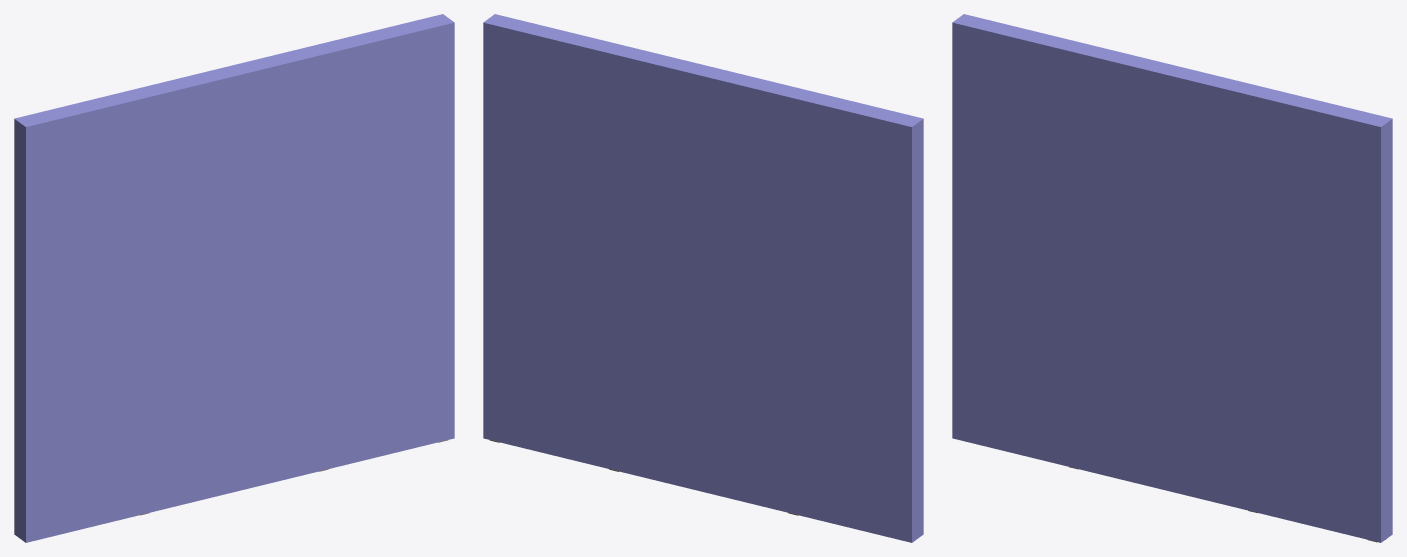
Rendered from SciFi_walkway_02_rail_long.DAE.
The picture shows the model from 3 angles, left to right: view 1: azimuth 30°, elevation 25°; view 2: azimuth 150°, elevation 25°; view 3: azimuth 330°, elevation 25°; orthographic projection.
Parts seen in each view (by area): view 1: bounds; view 2: bounds; view 3: bounds.
Part boxes in pixels (x1,y1,x2,y2): bounds: (14, 14, 454, 542); bounds: (483, 14, 923, 542); bounds: (952, 14, 1392, 542).
Bounding box in the file's own units: 718 × 33.96 × 668.
